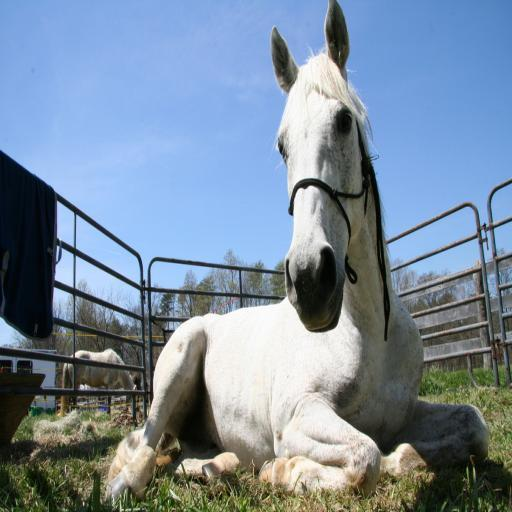horse: (104, 2, 490, 508), (59, 344, 139, 416)
